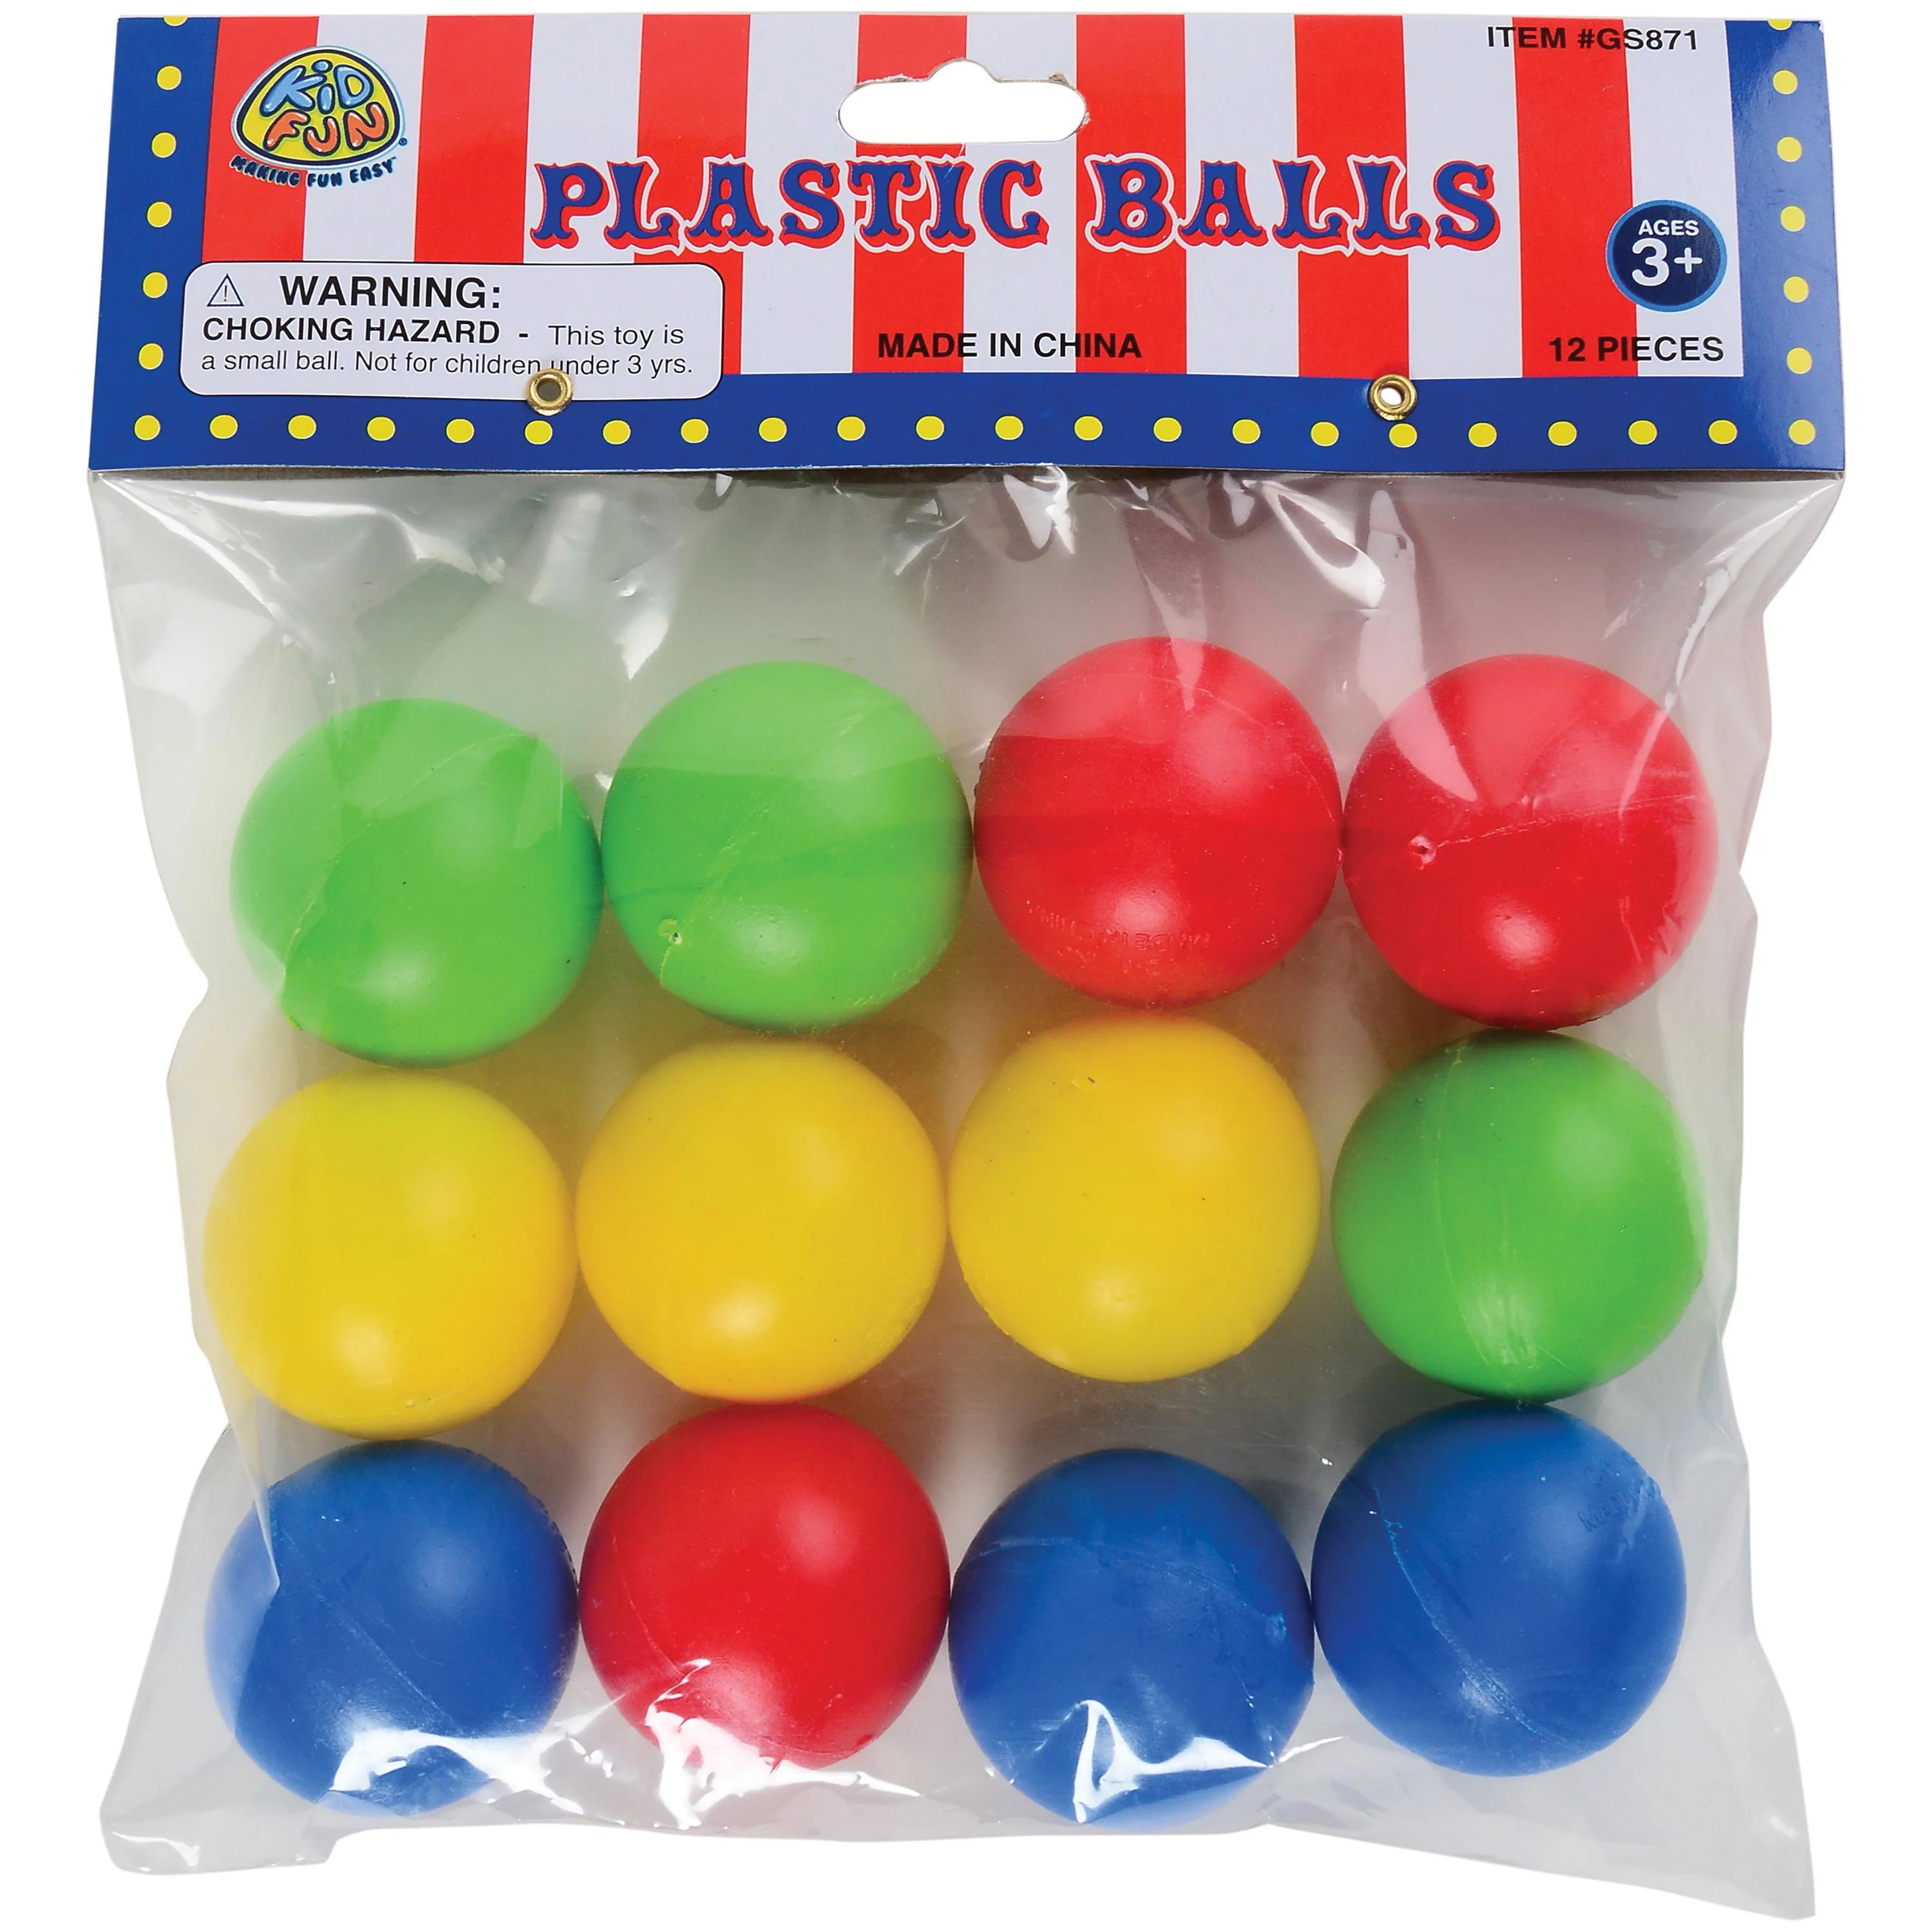Red_Ball: (550, 1396, 962, 1783), (959, 625, 1353, 1012), (1336, 639, 1734, 1012)
